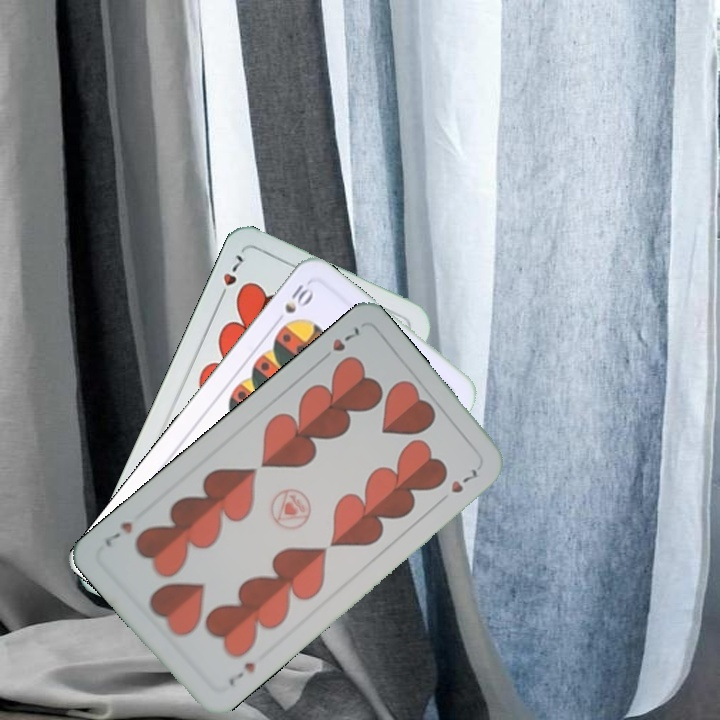H7: (315, 321, 363, 365), (214, 250, 248, 304), (224, 658, 258, 689)
S10: (270, 278, 317, 328)
